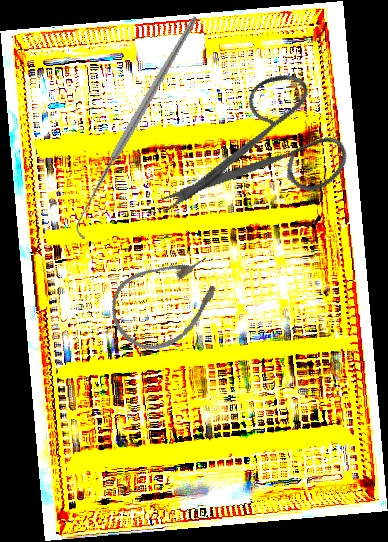Cannula: (97, 238, 237, 365)
Hook Surgical: (12, 13, 264, 241)
Iris Scissors: (152, 45, 371, 272)
